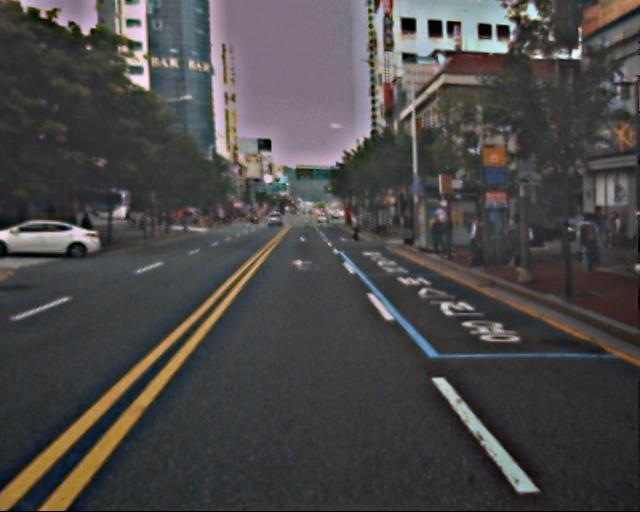person: (575, 212, 600, 274), (503, 214, 528, 274), (466, 214, 486, 262), (429, 213, 447, 258), (600, 212, 621, 247), (348, 210, 362, 244)
